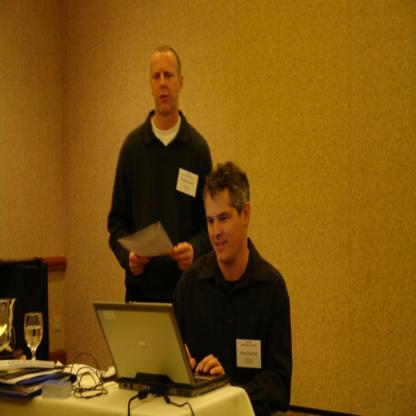board: (93, 300, 227, 397)
